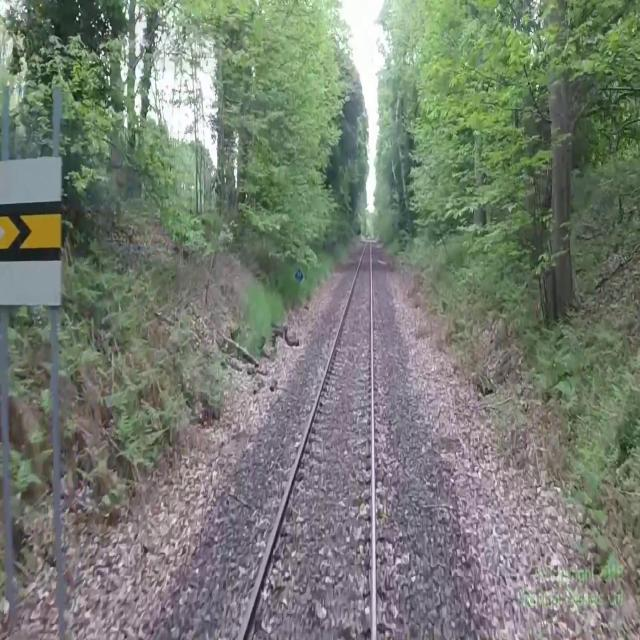rail-track: (244, 242, 372, 639)
